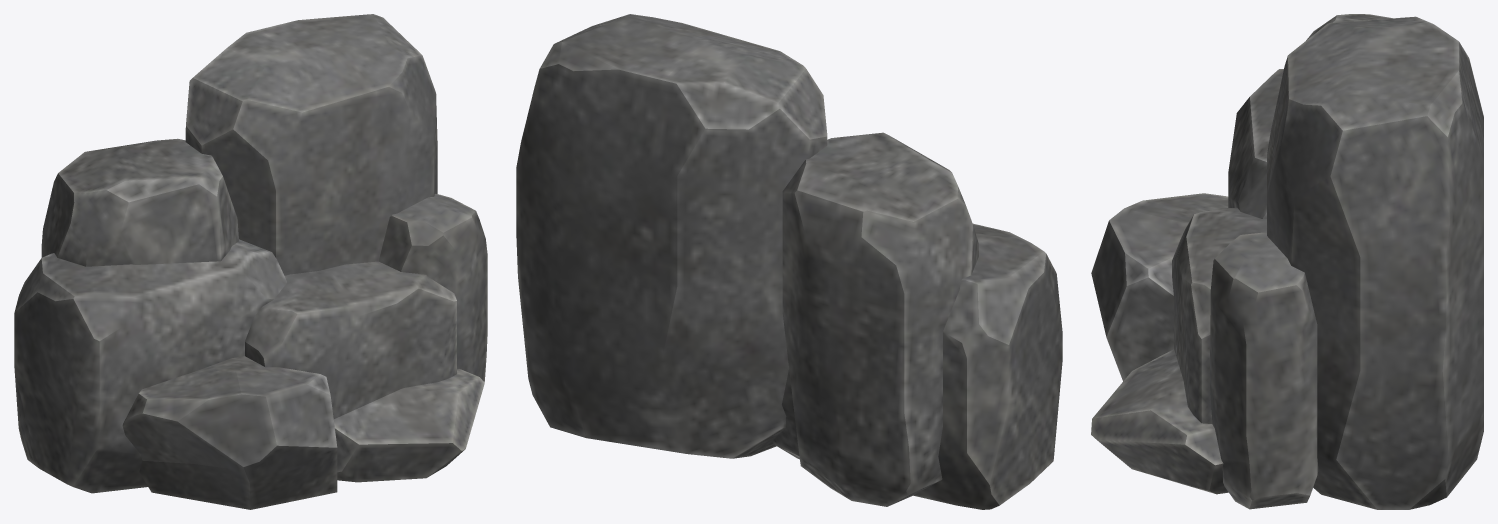
The model's file is RockGroup06_Dream.glb.
3 views of the same model, side by side, from view 1: azimuth 30°, elevation 25°; view 2: azimuth 150°, elevation 25°; view 3: azimuth 270°, elevation 25° (orthographic). The views are drawn at different scales.
Parts seen in each view (by area): view 1: rockgroup06_dream; view 2: rockgroup06_dream; view 3: rockgroup06_dream.
Part boxes in pixels (left/top/right/bottom): rockgroup06_dream: left=14, top=14, right=487, bottom=509; rockgroup06_dream: left=516, top=14, right=1062, bottom=509; rockgroup06_dream: left=1091, top=14, right=1483, bottom=509.
Bounding box in the file's own units: 0.7432 × 0.6002 × 0.5295.
1 material, 1 textured.
